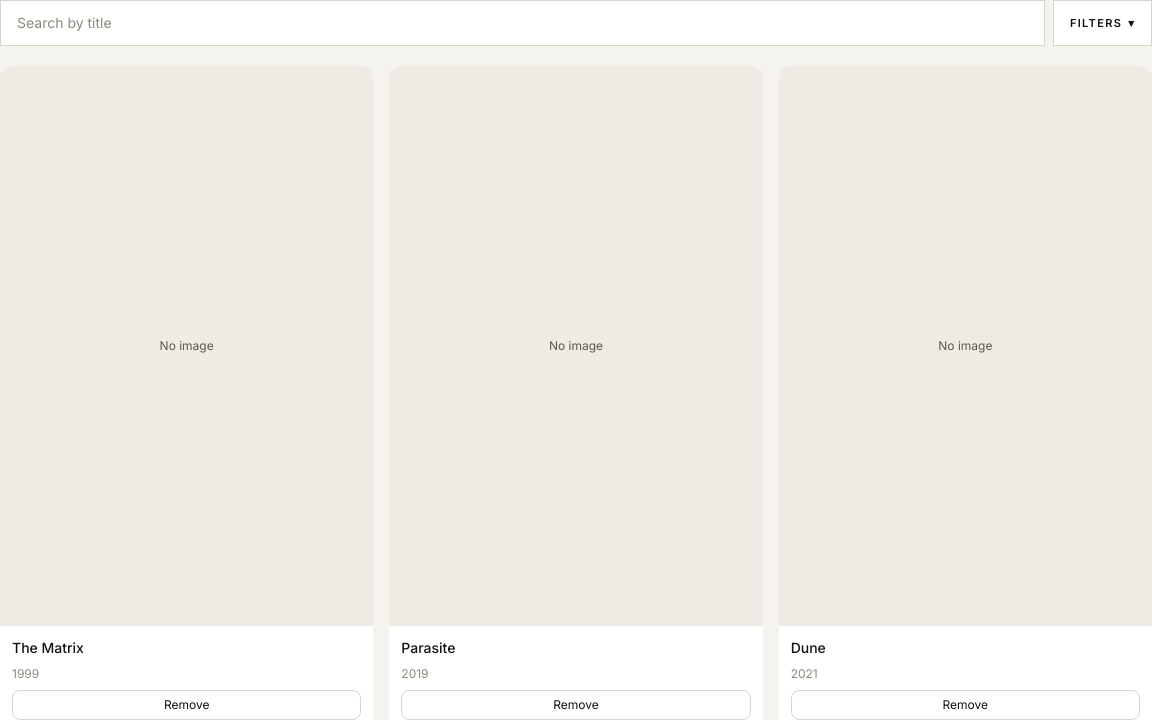
Test: MovieListClient › shows a no-match message when filters exclude everything
Expected: the text "The Matrix" is shown, [12,639,84,656]
In the field labelled "Search by title": x=522, y=23 [0,0,1045,46], type "zzz no such movie"
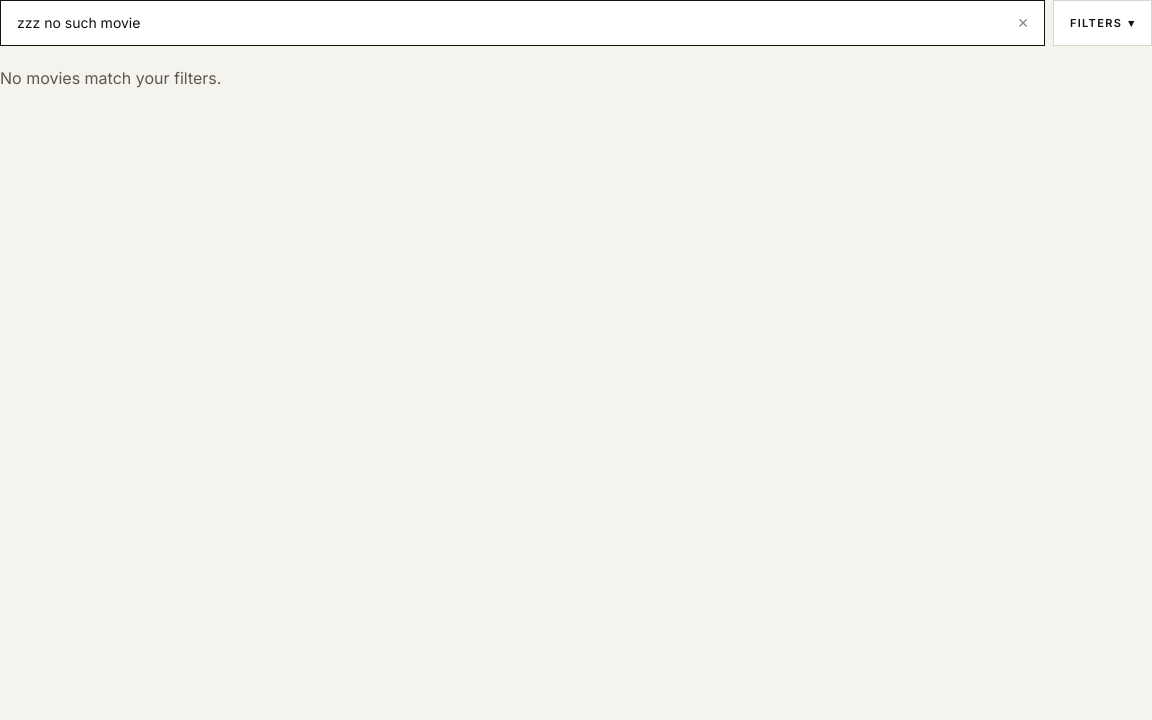
Now the text "No movies match your filters." is shown, box [0,68,221,88]
